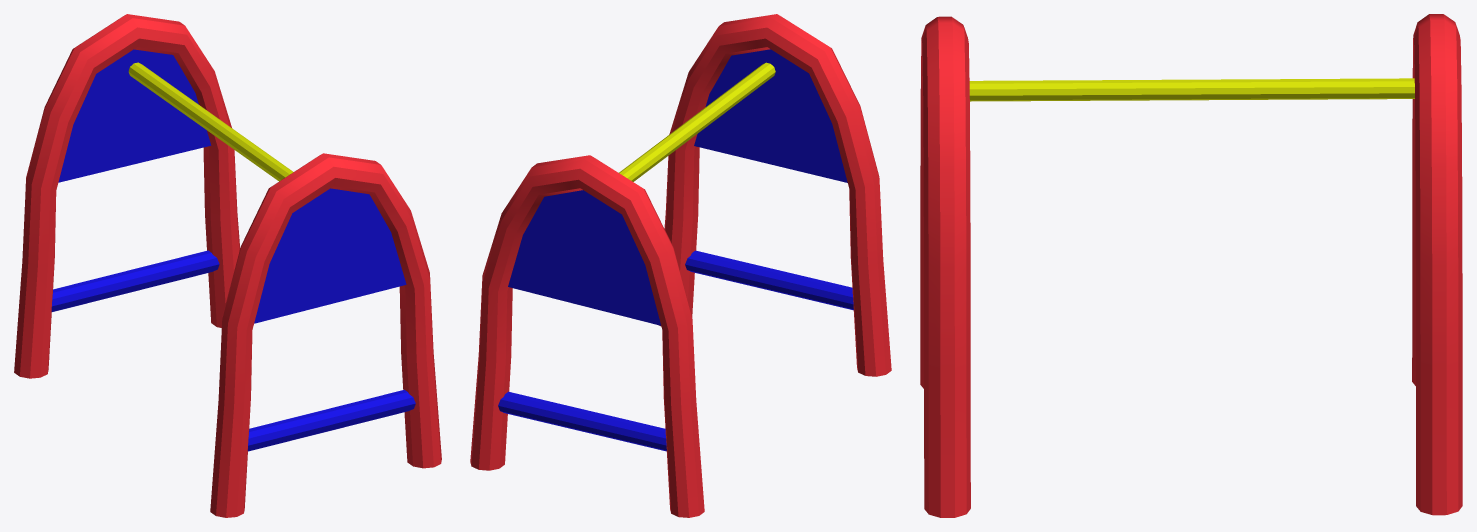
Rendered from columpio_estructura.fbx.
3 views of the same model, side by side, from view 1: azimuth 30°, elevation 25°; view 2: azimuth 150°, elevation 25°; view 3: azimuth 270°, elevation 25° (orthographic). The views are drawn at different scales.
Parts seen in each view (by area): view 1: columpio_estructura; view 2: columpio_estructura; view 3: columpio_estructura.
Part boxes in pixels (left/top/right/bottom): columpio_estructura: left=14, top=14, right=441, bottom=517; columpio_estructura: left=470, top=14, right=891, bottom=517; columpio_estructura: left=920, top=14, right=1462, bottom=517.
Size of the model in its own units: 355 by 483 by 560.
